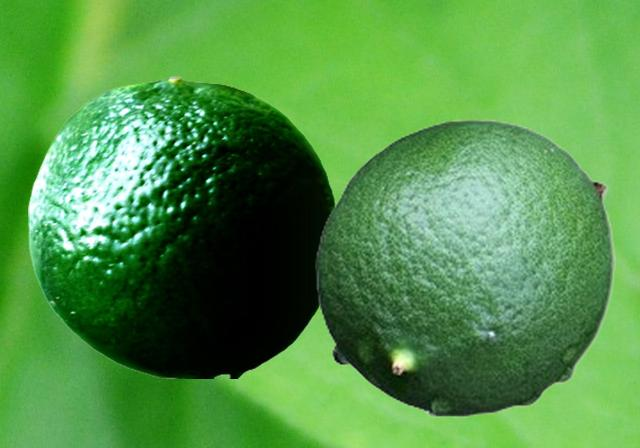calamansi: (28, 75, 335, 377), (315, 118, 614, 416)
